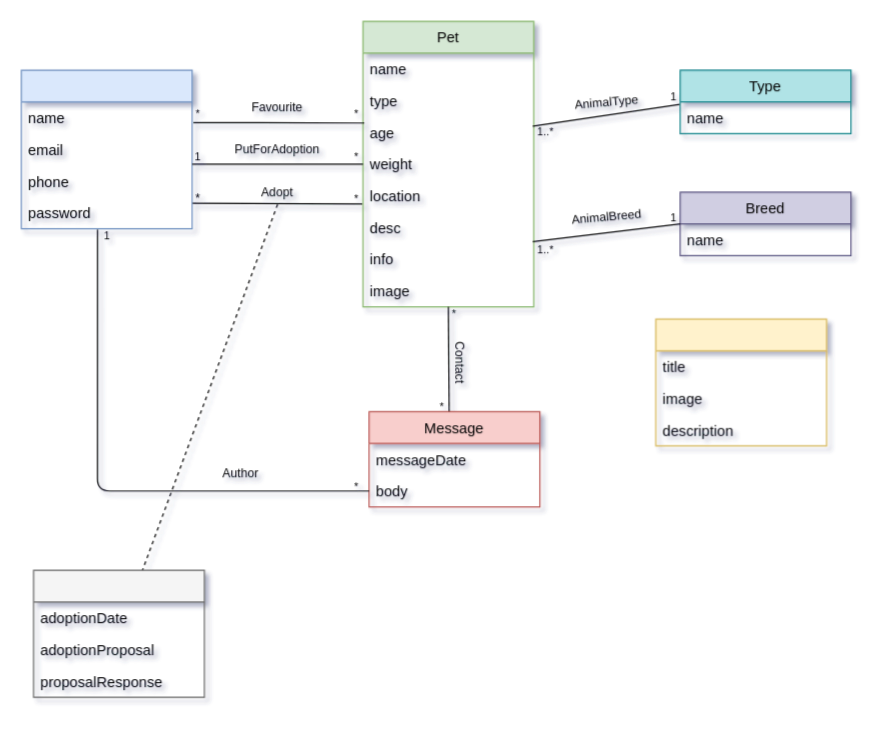
This 880x730 diagram has some shape labels left out. The box of each missing label's shape, as (x1, y1, x2, y2) in pixels:
Lost and Found: (655, 318, 827, 446)
User: (20, 69, 192, 229)
